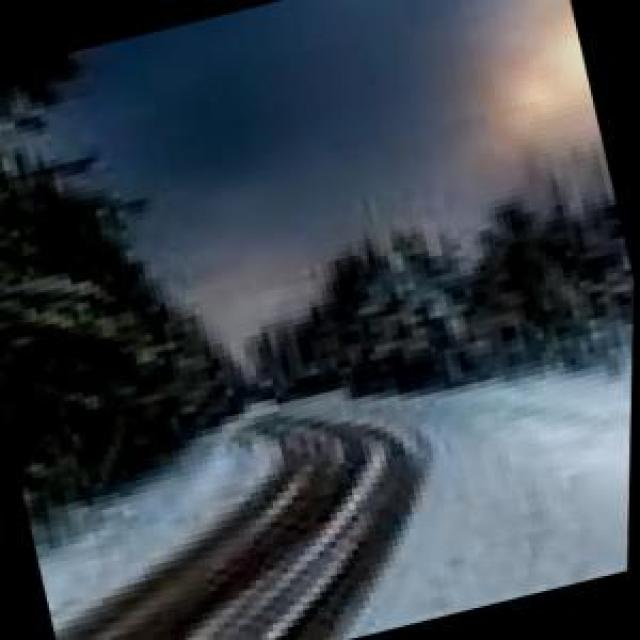ice-road: (61, 405, 424, 640)
